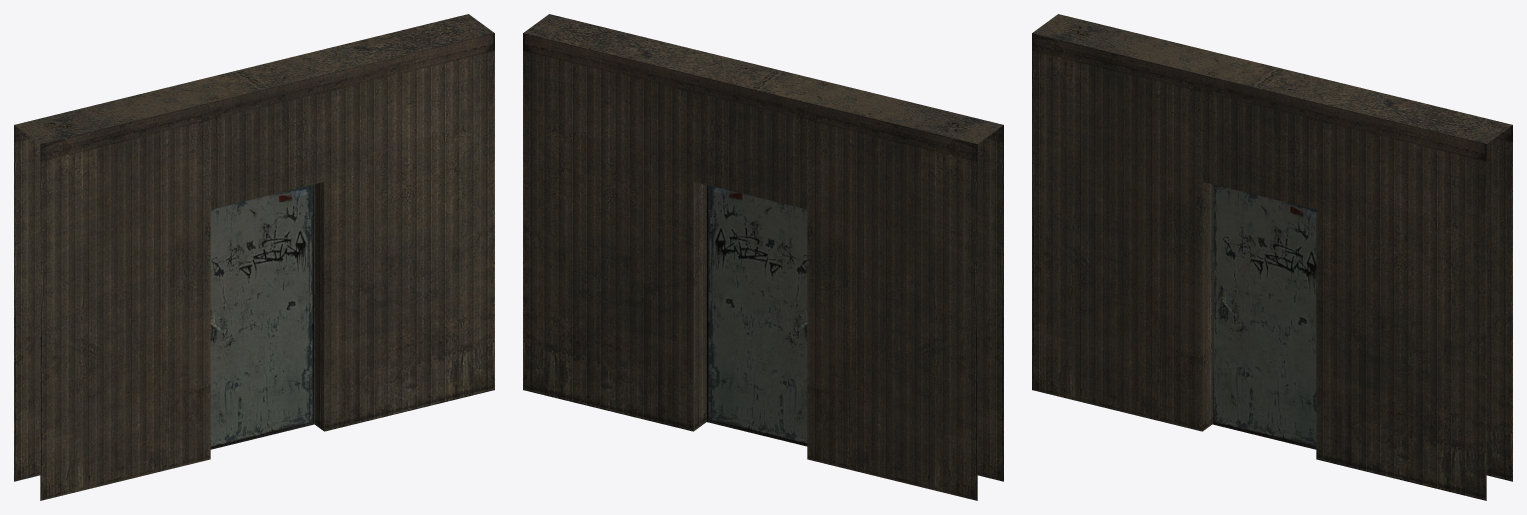
File: doorway_rx_1.dae
3 renders of one model, left to right at view 1: azimuth 30°, elevation 25°; view 2: azimuth 150°, elevation 25°; view 3: azimuth 330°, elevation 25°, orthographic.
Visible parts, largest first — view 1: doorway_rx_1, door_hr_11; view 2: doorway_rx_1, door_hr_11; view 3: doorway_rx_1, door_hr_11.
Part boxes in pixels (box(x1,y1,x2,y2)): doorway_rx_1: box(14, 14, 494, 500); door_hr_11: box(210, 184, 314, 449); doorway_rx_1: box(523, 14, 1003, 500); door_hr_11: box(706, 185, 807, 446); doorway_rx_1: box(1032, 14, 1512, 500); door_hr_11: box(1212, 184, 1316, 449).
Bounding box in the file's own units: 4 × 0.4 × 3.
3 materials, 3 textured.
